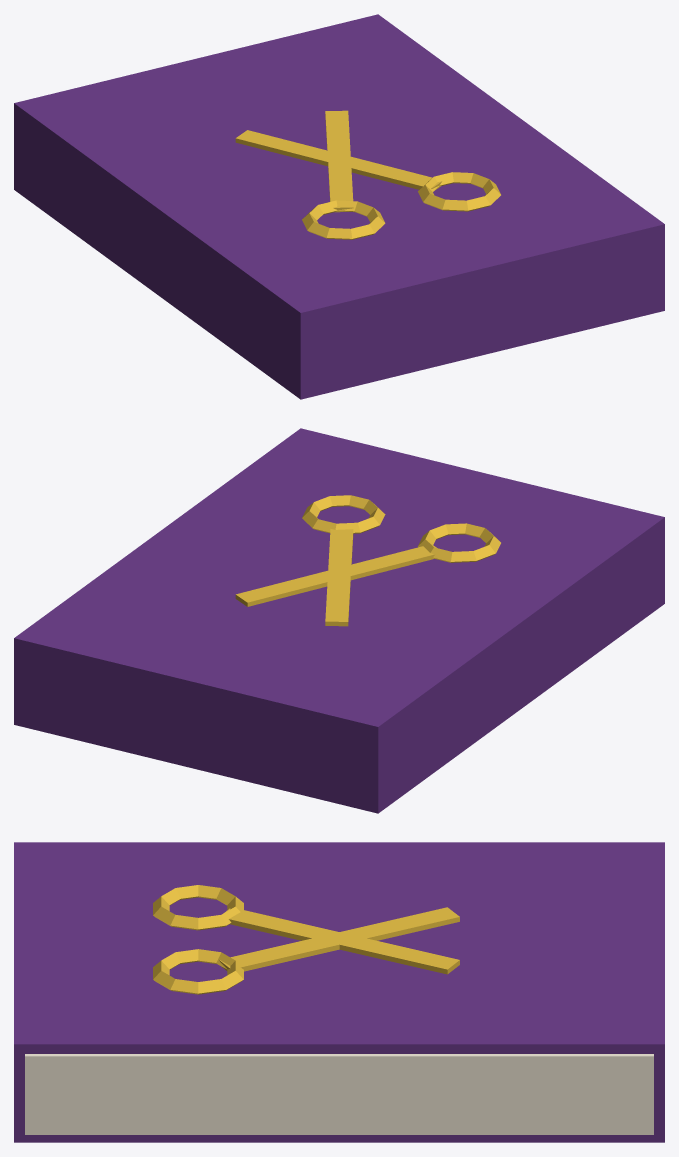
Rendered from appointment_book.glb.
The picture shows the model from 3 angles, top to bottom: view 1: azimuth 30°, elevation 25°; view 2: azimuth 150°, elevation 25°; view 3: azimuth 270°, elevation 25°; orthographic projection. The views are drawn at different scales.
Visible parts, largest first — view 1: cover_book_purple, scissors_gold; view 2: cover_book_purple, scissors_gold; view 3: cover_book_purple, pages_pages, scissors_gold.
Boxes of the visible parts, <box> form: cover_book_purple: <box>14,14,664,399</box>; scissors_gold: <box>235,110,500,239</box>; cover_book_purple: <box>14,428,664,813</box>; scissors_gold: <box>235,495,500,626</box>; cover_book_purple: <box>14,842,664,1142</box>; pages_pages: <box>25,1054,653,1134</box>; scissors_gold: <box>153,885,459,994</box>.
Bounding box in the file's own units: 0.2225 × 0.055 × 0.3.
